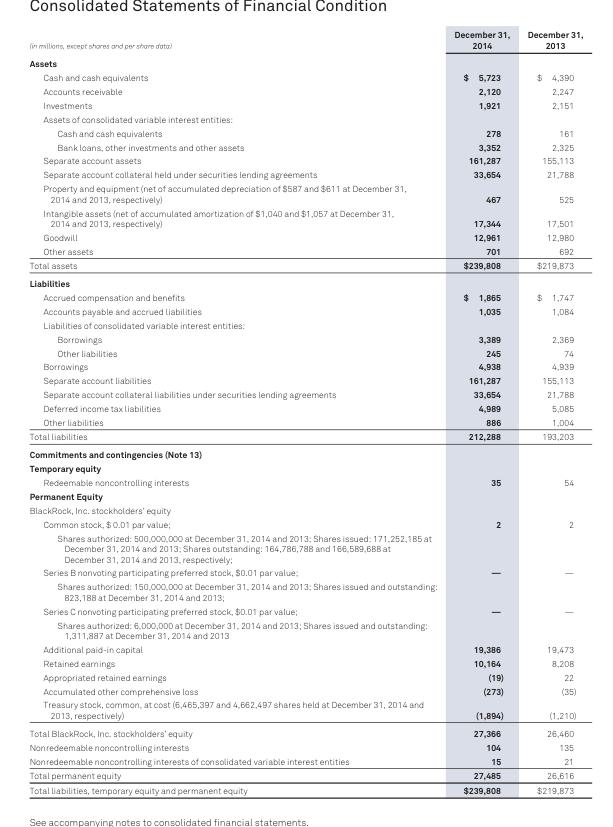table: (28, 28, 582, 795)
table column: (28, 28, 438, 795), (438, 28, 517, 795), (517, 28, 582, 795)
table column header: (28, 28, 582, 53)
table projected row header: (28, 531, 582, 565), (28, 579, 582, 603), (28, 617, 582, 641), (28, 53, 582, 70), (28, 274, 582, 290), (28, 445, 582, 461), (28, 461, 582, 475), (28, 489, 582, 503), (28, 112, 582, 125), (28, 318, 582, 331), (28, 503, 582, 516)
table row: (28, 531, 582, 565), (28, 697, 582, 723), (28, 28, 582, 53), (28, 181, 582, 205), (28, 205, 582, 229), (28, 579, 582, 603), (28, 617, 582, 641), (28, 53, 582, 70), (28, 257, 582, 274), (28, 274, 582, 290), (28, 429, 582, 445), (28, 445, 582, 461), (28, 723, 582, 739), (28, 97, 582, 112), (28, 303, 582, 318), (28, 516, 582, 531), (28, 767, 582, 782), (28, 70, 582, 84), (28, 125, 582, 139), (28, 139, 582, 153), (28, 153, 582, 167), (28, 167, 582, 181), (28, 229, 582, 243), (28, 243, 582, 257), (28, 331, 582, 345), (28, 345, 582, 359), (28, 359, 582, 373), (28, 373, 582, 387), (28, 387, 582, 401), (28, 401, 582, 415), (28, 415, 582, 429), (28, 461, 582, 475), (28, 475, 582, 489), (28, 489, 582, 503), (28, 565, 582, 579), (28, 603, 582, 617), (28, 641, 582, 655), (28, 655, 582, 669), (28, 669, 582, 683), (28, 683, 582, 697), (28, 739, 582, 753), (28, 753, 582, 767), (28, 84, 582, 97), (28, 112, 582, 125), (28, 290, 582, 303), (28, 318, 582, 331), (28, 503, 582, 516), (28, 782, 582, 795)
